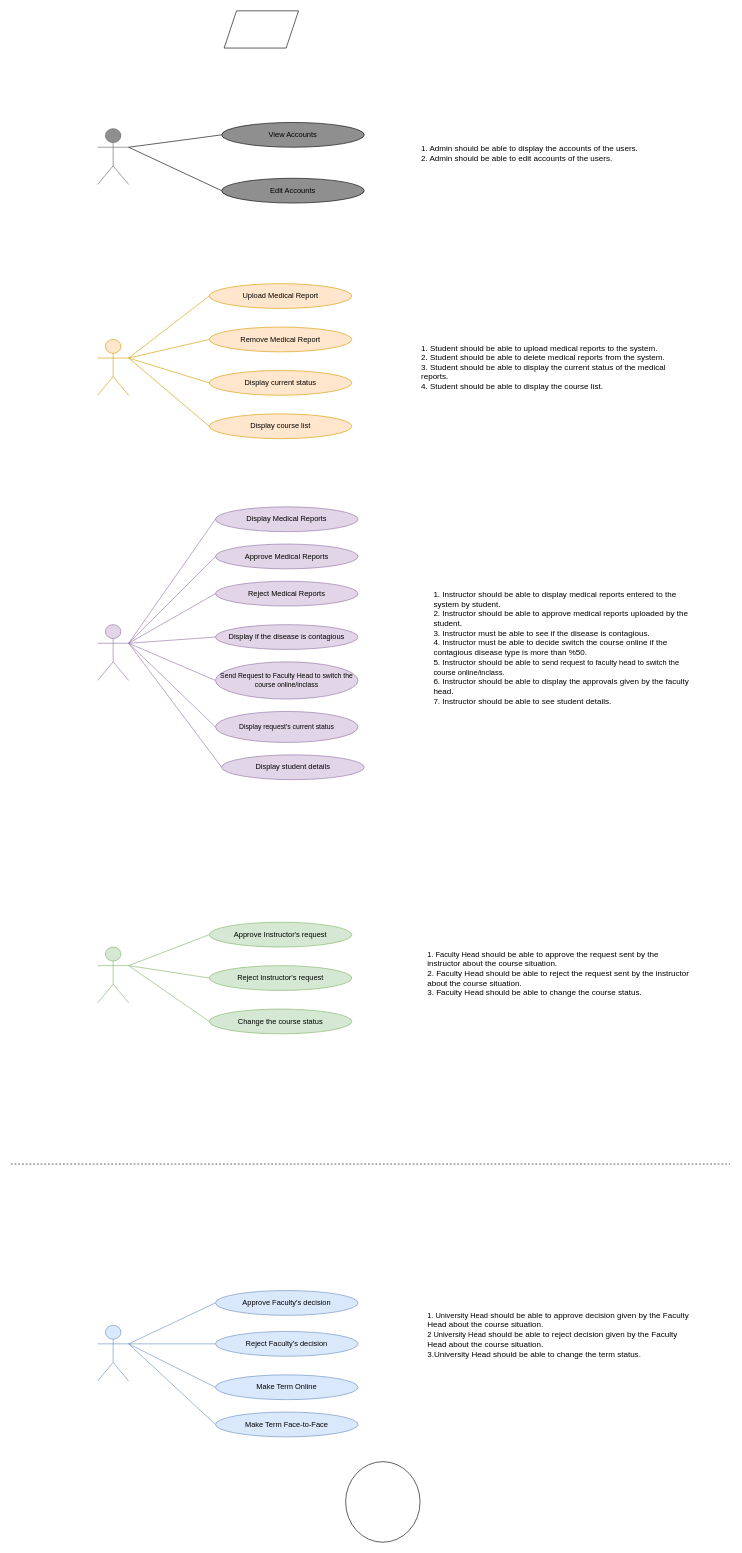
Some shapes in this 742 by 1553 pixel diagram are drawn without their labels. Here are the shapes that lost their labels. From the top down, the centre of each, then its label:
At pixel 113 156: "Admin".
At pixel 113 367: "Student".
At pixel 113 652: "Instructor".
At pixel 113 974: "Faculty Head".
At pixel 113 1353: "University Head".
